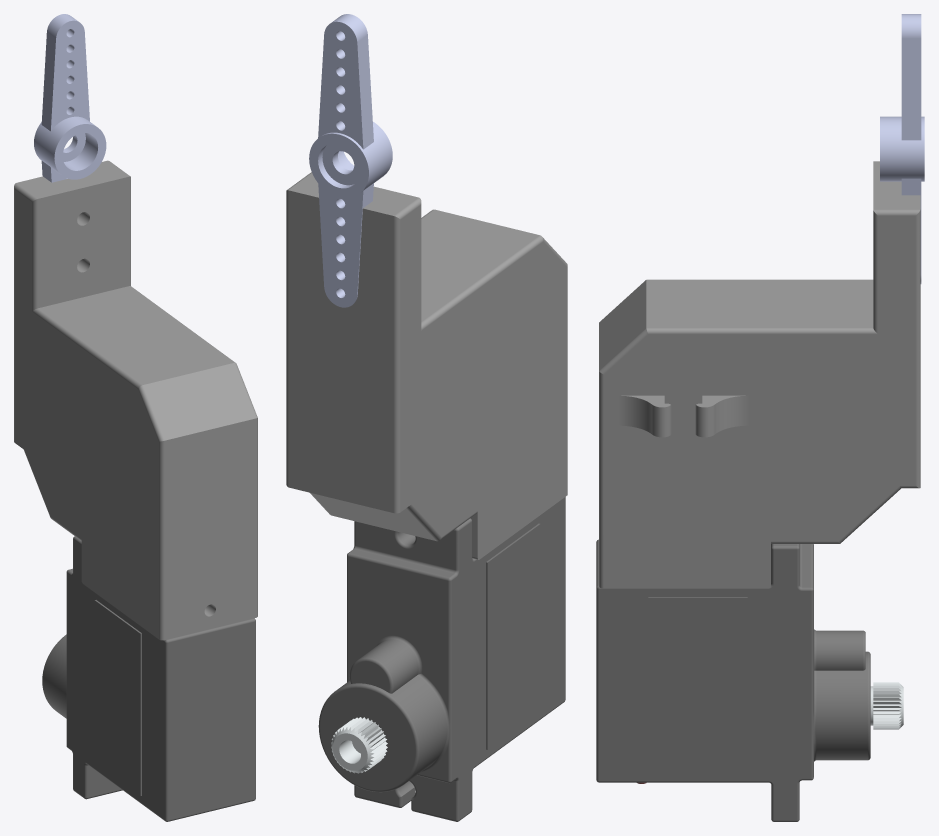
File: finger_1_link1.dae
3 renders of one model, left to right at view 1: azimuth 30°, elevation 25°; view 2: azimuth 150°, elevation 25°; view 3: azimuth 270°, elevation 25°, orthographic. The views are drawn at different scales.
Visible parts, largest first — view 1: finger_1_link1; view 2: finger_1_link1; view 3: finger_1_link1.
Part boxes in pixels (left/top/right/bottom): finger_1_link1: left=14, top=14, right=257, bottom=821; finger_1_link1: left=286, top=14, right=567, bottom=821; finger_1_link1: left=596, top=14, right=924, bottom=821.
Bounding box in the file's own units: 0.0159 × 0.0347 × 0.0914.
